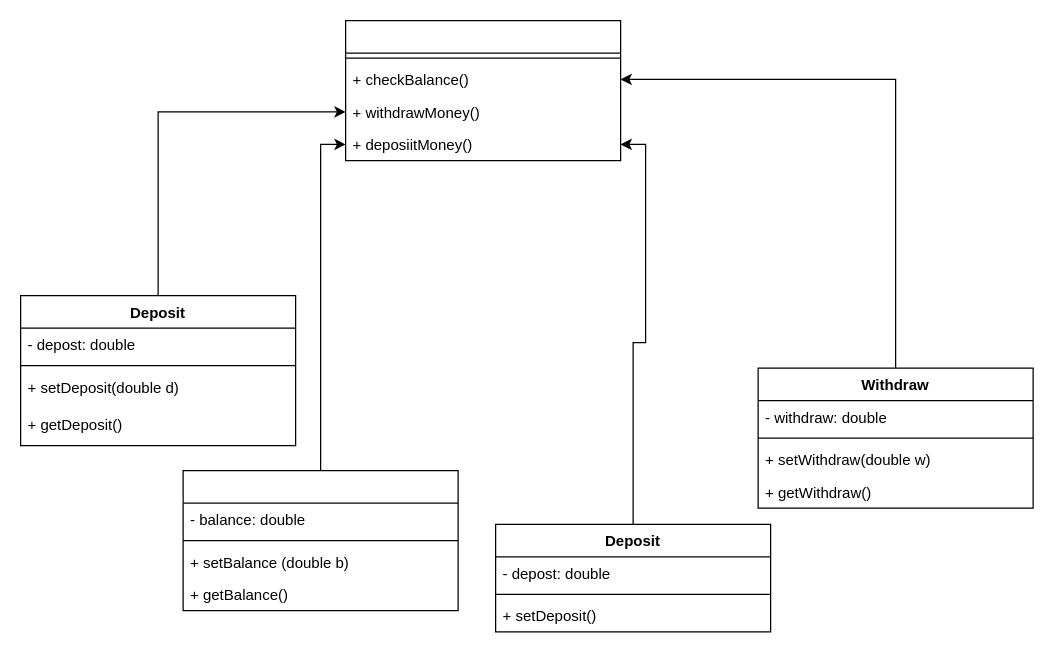
This 1054x653 diagram has some shape labels left out. Here are the shapes that lost their labels. From the top down, the box of each, then its label:
(344, 19, 621, 161): ATMMachine
(182, 469, 458, 611): BalanceInquiry
